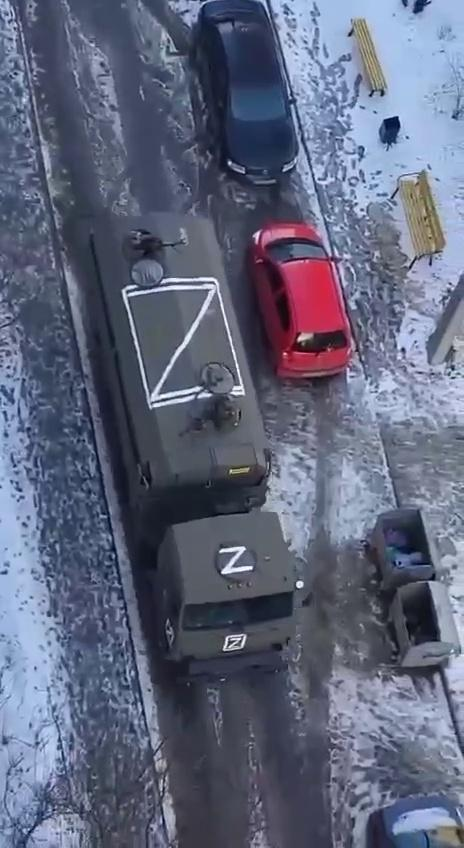car: (198, 0, 301, 187), (249, 222, 352, 383)
truck: (86, 213, 306, 681)
